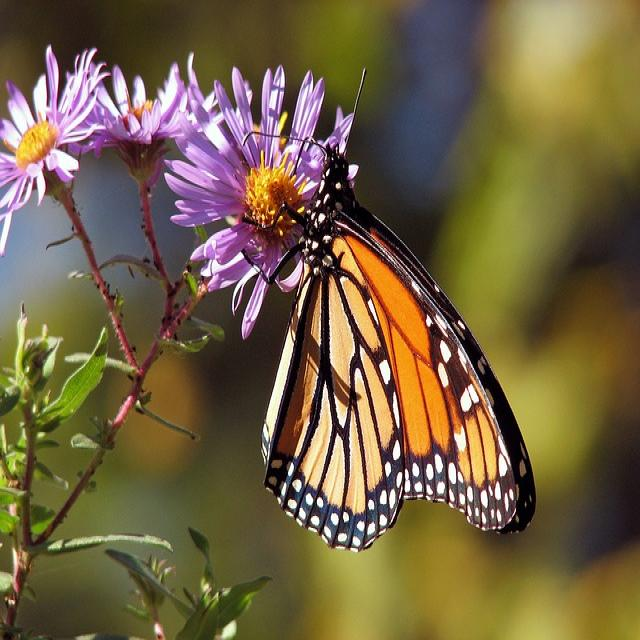butterfly: (262, 148, 535, 549)
